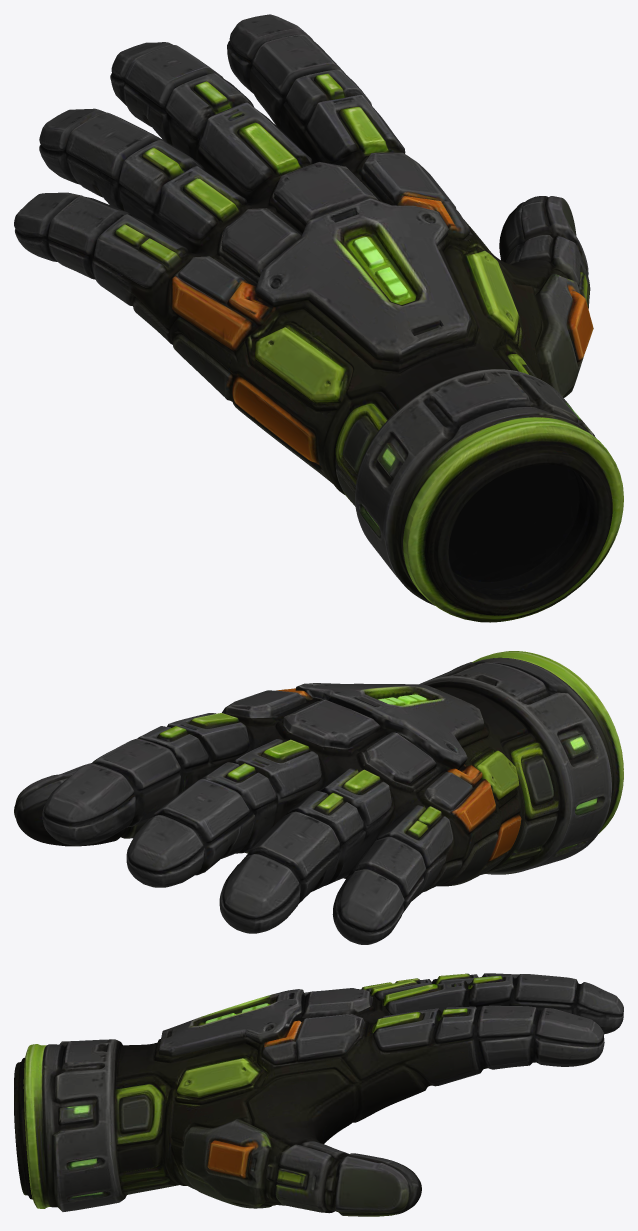
The model's file is left-hand.glb.
The picture shows the model from 3 angles, top to bottom: view 1: azimuth 30°, elevation 25°; view 2: azimuth 150°, elevation 25°; view 3: azimuth 270°, elevation 25°; orthographic projection. The views are drawn at different scales.
Parts seen in each view (by area): view 1: material; view 2: material; view 3: material.
Part boxes in pixels (x1,y1,x2,y2): material: [14, 14, 623, 622]; material: [14, 651, 623, 944]; material: [14, 973, 623, 1216].
Bounding box in the file's own units: 0.7517 × 0.4682 × 1.14.
Materials: 1 (1 with a texture image).
